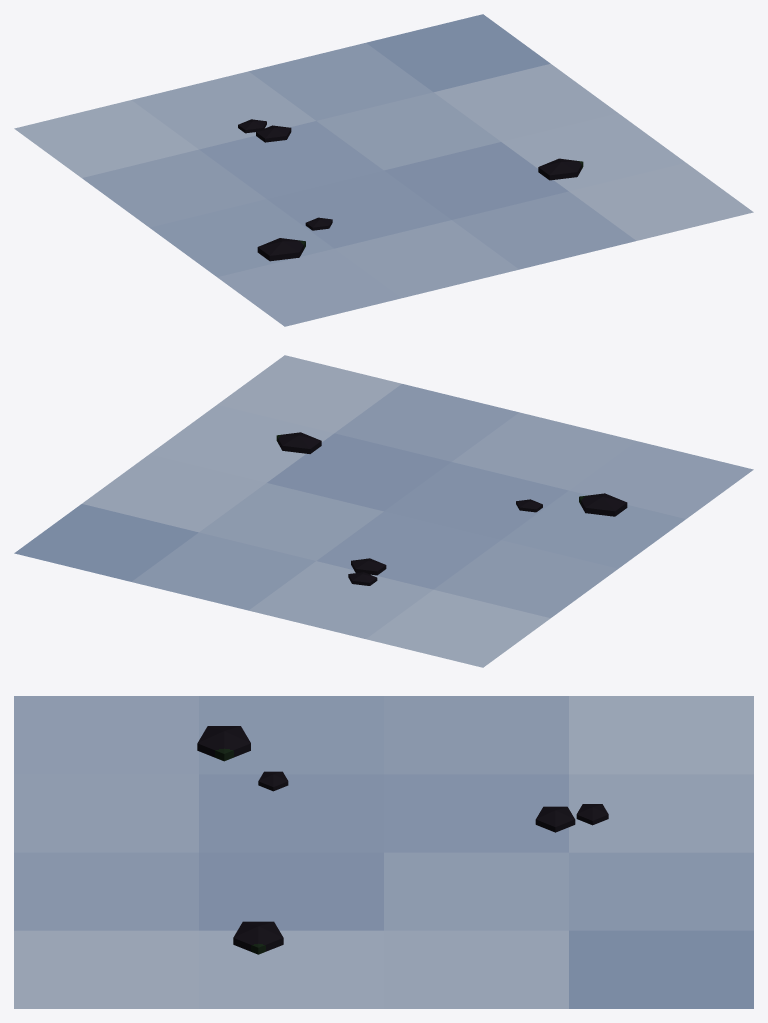
File: snow_floor.glb
3 renders of one model, top to bottom at view 1: azimuth 30°, elevation 25°; view 2: azimuth 150°, elevation 25°; view 3: azimuth 270°, elevation 25°, orthographic. The views are drawn at different scales.
Parts seen in each view (by area): view 1: snow_floor; view 2: snow_floor; view 3: snow_floor.
Boxes of the visible parts, left/top/right/bottom form: snow_floor: left=14, top=14, right=753, bottom=326; snow_floor: left=14, top=355, right=753, bottom=667; snow_floor: left=14, top=696, right=753, bottom=1008.
Size of the model in its own units: 2 by 0.0881 by 2.
Materials: 2 (1 with a texture image).
